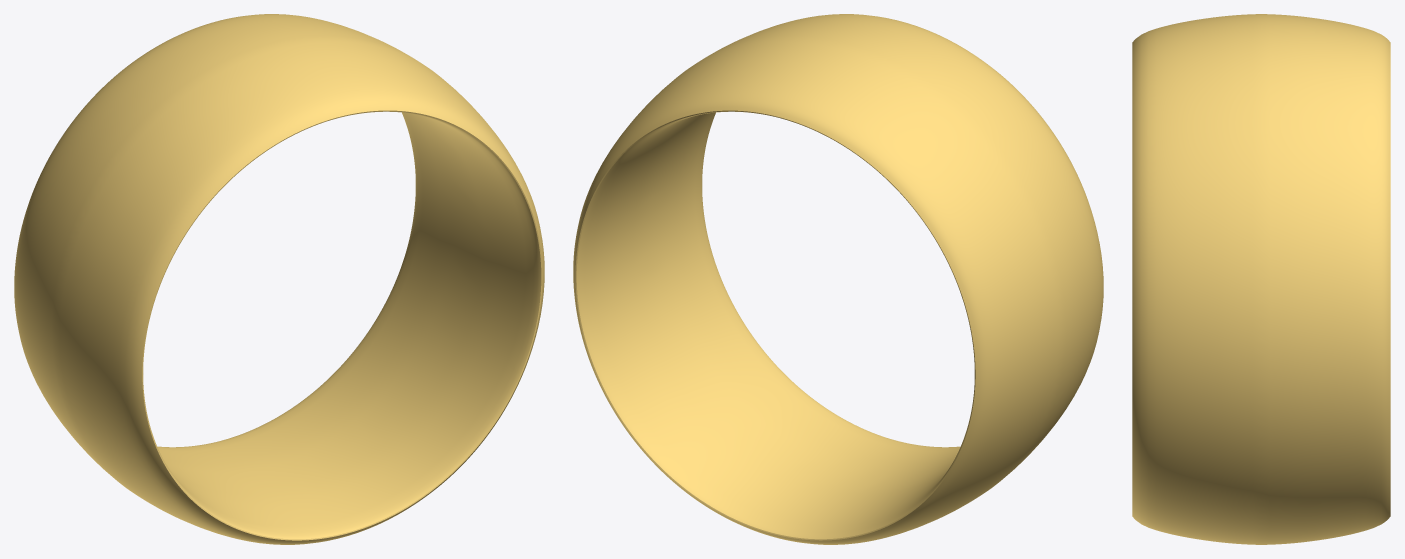
File: MegWByg_blender.glb
The picture shows the model from 3 angles, left to right: view 1: azimuth 30°, elevation 25°; view 2: azimuth 150°, elevation 25°; view 3: azimuth 270°, elevation 25°; orthographic projection. The views are drawn at different scales.
Parts seen in each view (by area): view 1: Meg YG wb for 3d model; view 2: Meg YG wb for 3d model; view 3: Meg YG wb for 3d model.
Part boxes in pixels (x1=…): Meg YG wb for 3d model: x1=14, y1=14, x2=544, y2=544; Meg YG wb for 3d model: x1=573, y1=14, x2=1103, y2=544; Meg YG wb for 3d model: x1=1132, y1=14, x2=1390, y2=544.
Bounding box in the file's own units: 20.76 × 20.76 × 10.1.
